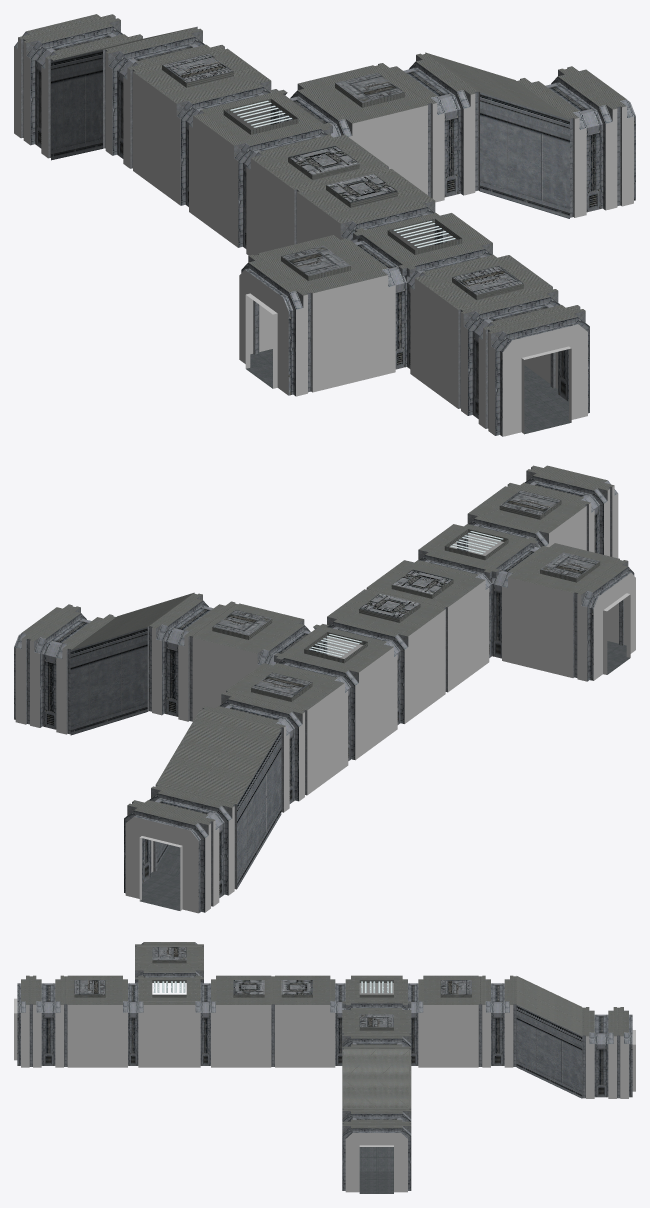
The model's file is poi_all_impl_bunker_warren_s01_r42_hall42_mesh_r42.fbx.
3 views of the same model, one above another, from view 1: azimuth 30°, elevation 25°; view 2: azimuth 150°, elevation 25°; view 3: azimuth 270°, elevation 25° (orthographic). The views are drawn at different scales.
Visible parts, largest first — view 1: mesh_node; view 2: mesh_node; view 3: mesh_node.
Boxes of the visible parts, x1,y1,x2,y2 form: mesh_node: (14,14,635,436); mesh_node: (14,465,635,913); mesh_node: (14,942,635,1193).
Bounding box in the file's own units: 22 × 6.2 × 36.
